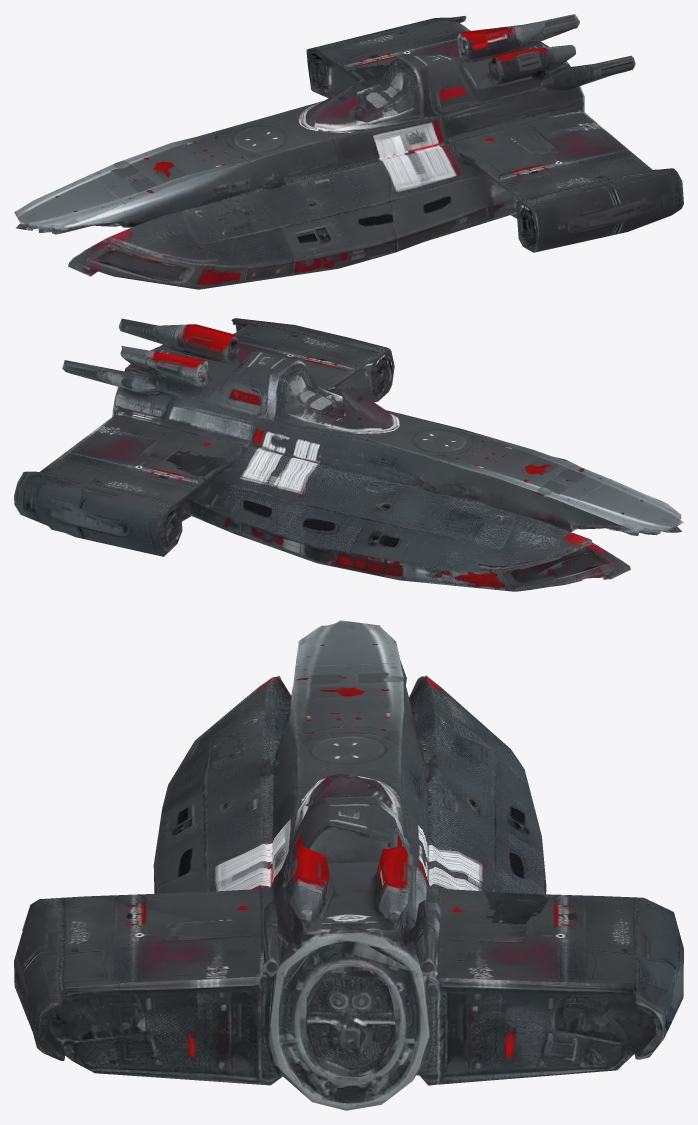
Rendered from ship13.glb.
3 renders of one model, top to bottom at view 1: azimuth 30°, elevation 25°; view 2: azimuth 150°, elevation 25°; view 3: azimuth 270°, elevation 25°, orthographic. The views are drawn at different scales.
Parts seen in each view (by area): view 1: Mesh0; view 2: Mesh0; view 3: Mesh0.
Boxes of the visible parts, bbox=[...] form: Mesh0: bbox=[14, 14, 683, 289]; Mesh0: bbox=[14, 318, 683, 591]; Mesh0: bbox=[14, 620, 683, 1110].
Bounding box in the file's own units: 1.91 × 0.5012 × 1.36.
1 material, 1 textured.
